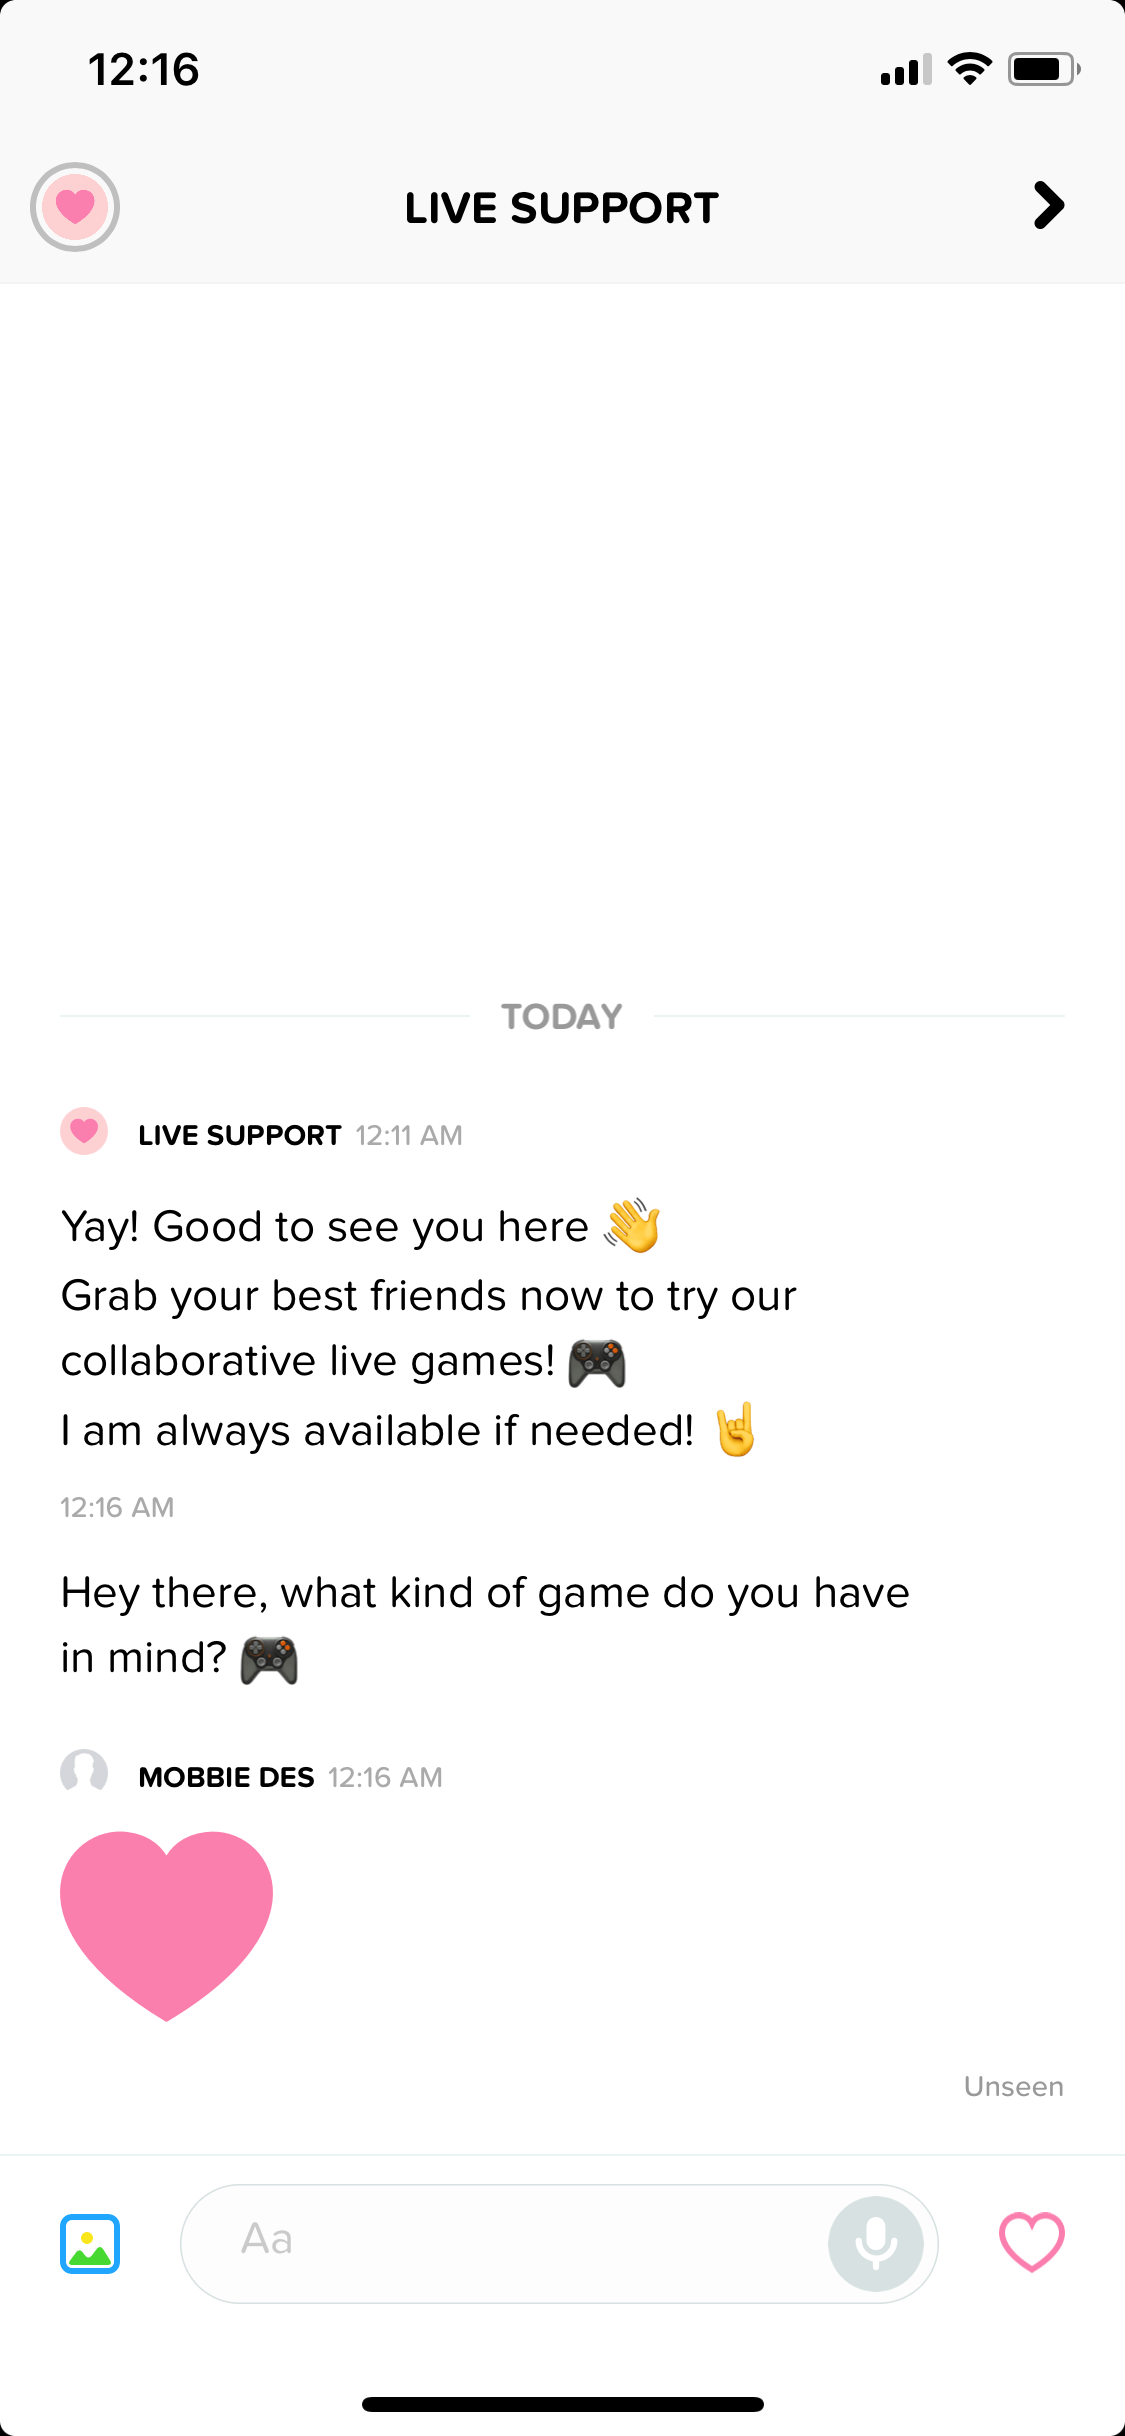Buttons: (970, 138, 1103, 267), (976, 2177, 1095, 2305), (31, 2173, 148, 2298)
Text Fields: (169, 2170, 942, 2316)
